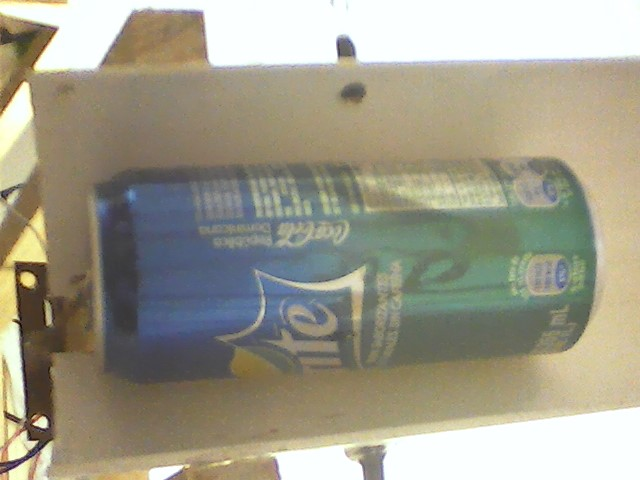lata: (82, 153, 612, 387)
